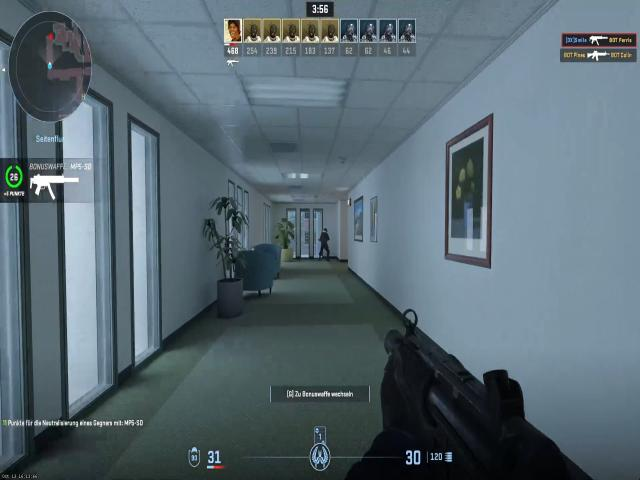CT: (319, 227, 330, 256)
CT-Head: (323, 228, 329, 236)
